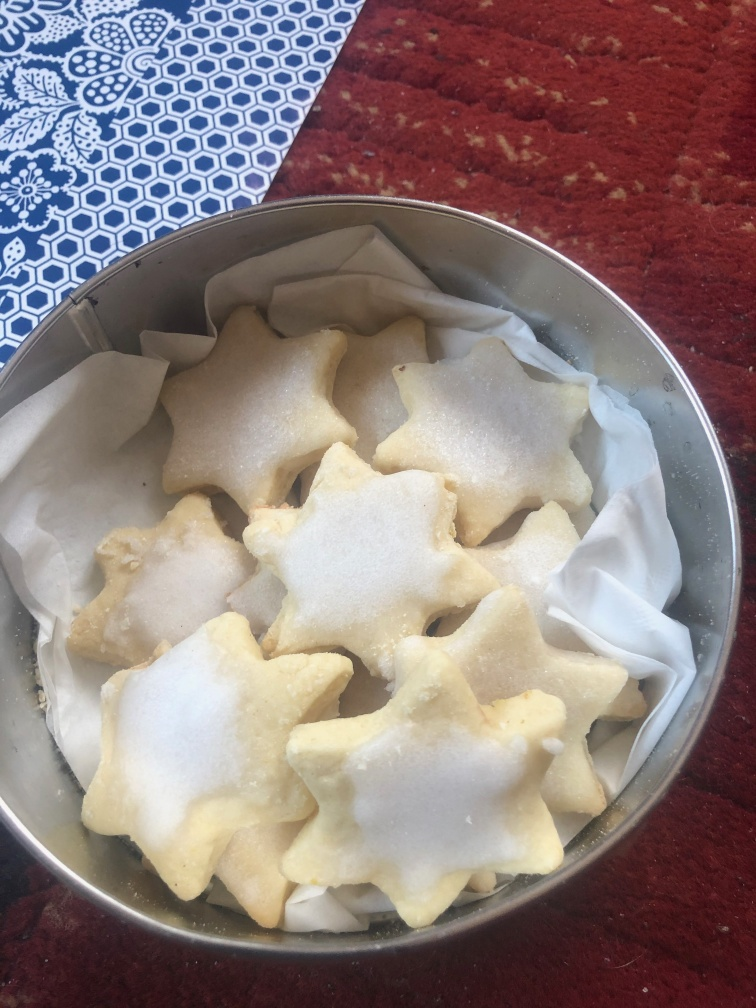star: (81, 612, 349, 924), (288, 654, 560, 926), (243, 443, 491, 678), (389, 590, 608, 815), (374, 334, 599, 536), (158, 307, 352, 512), (69, 496, 260, 666)
